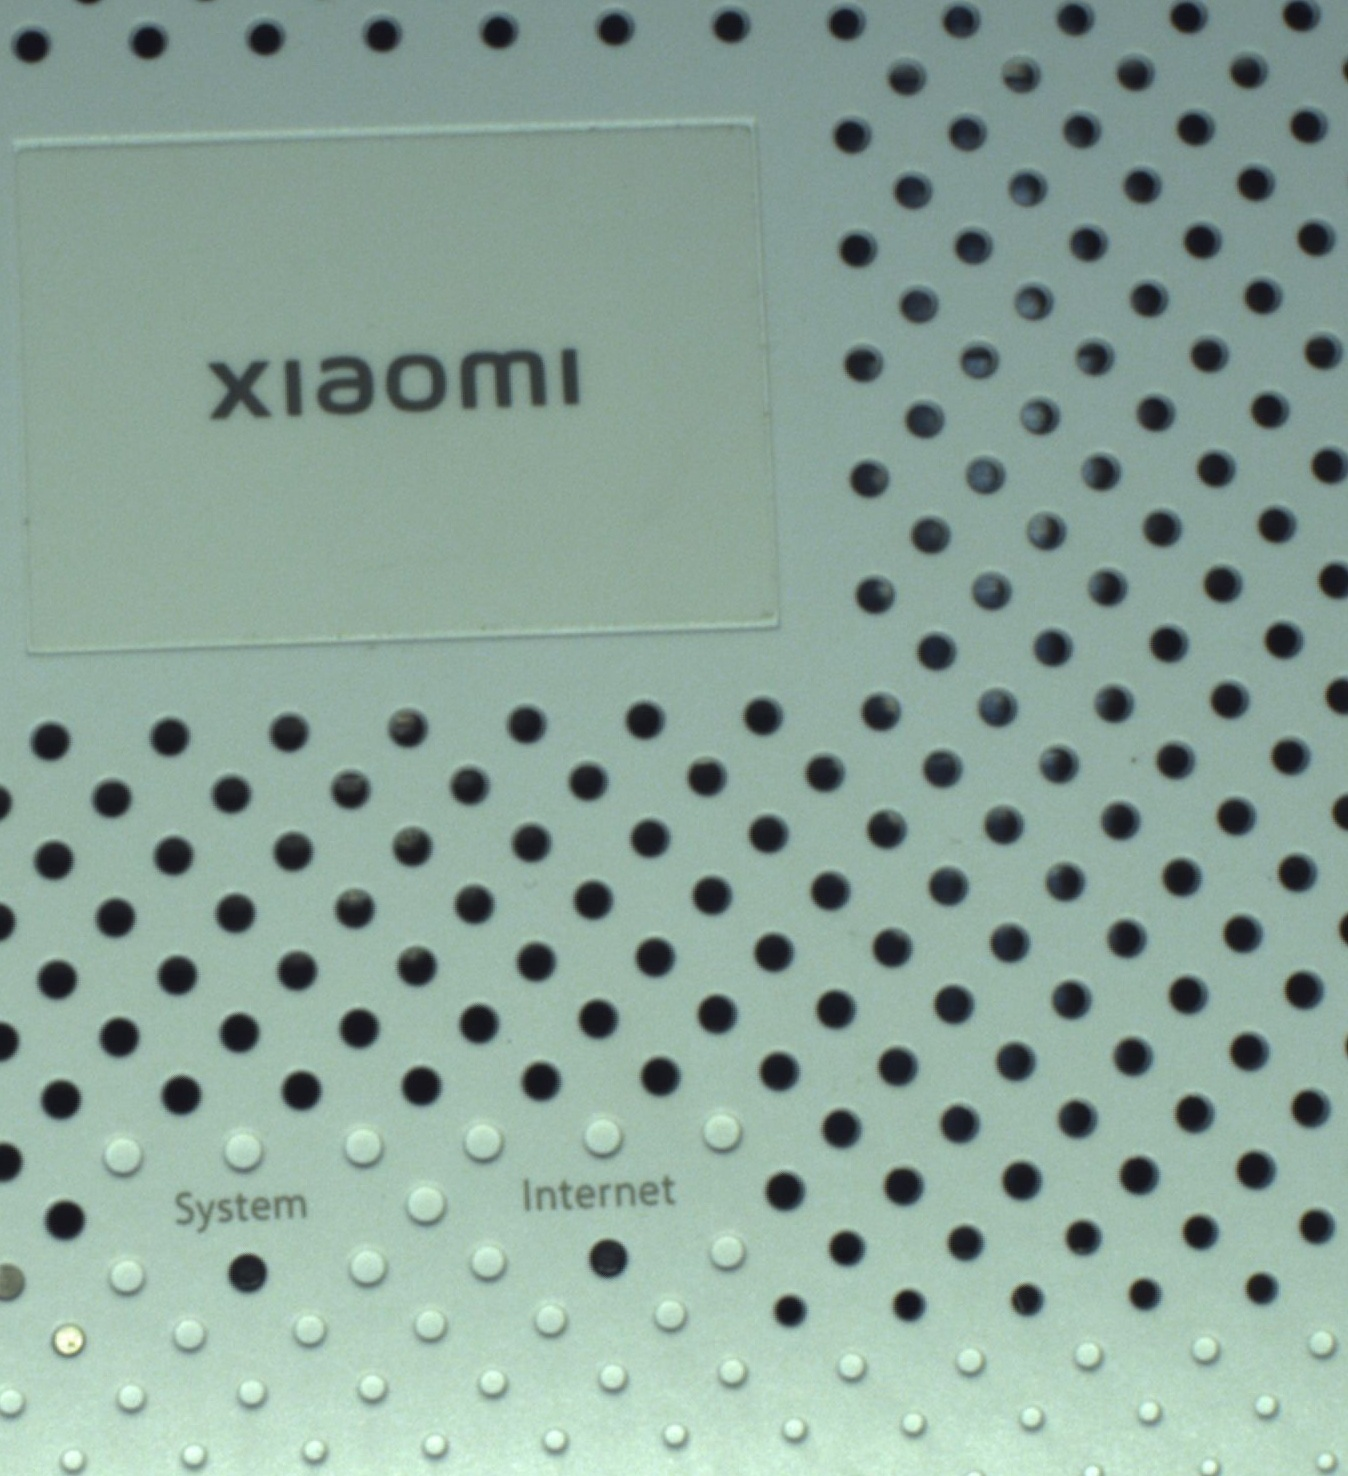MAB_OldUnicom: (196, 334, 584, 426)
